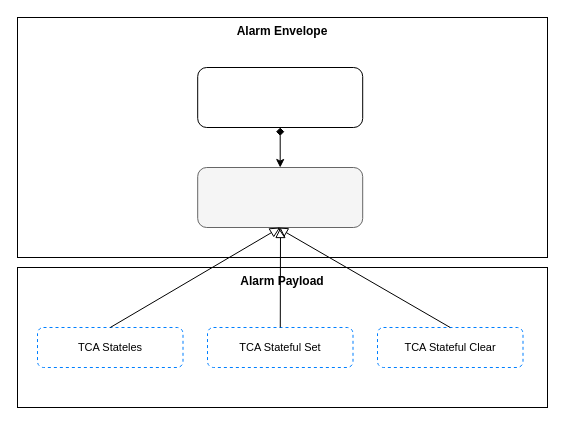
The diagram is 565 pixels wide and 425 high, and some of its shapes have lost their labels. Each missing label, with the centre of its shape:
"Alarm" belongs at [280,97].
"AlarmSpecificAttributes" belongs at [280,197].
